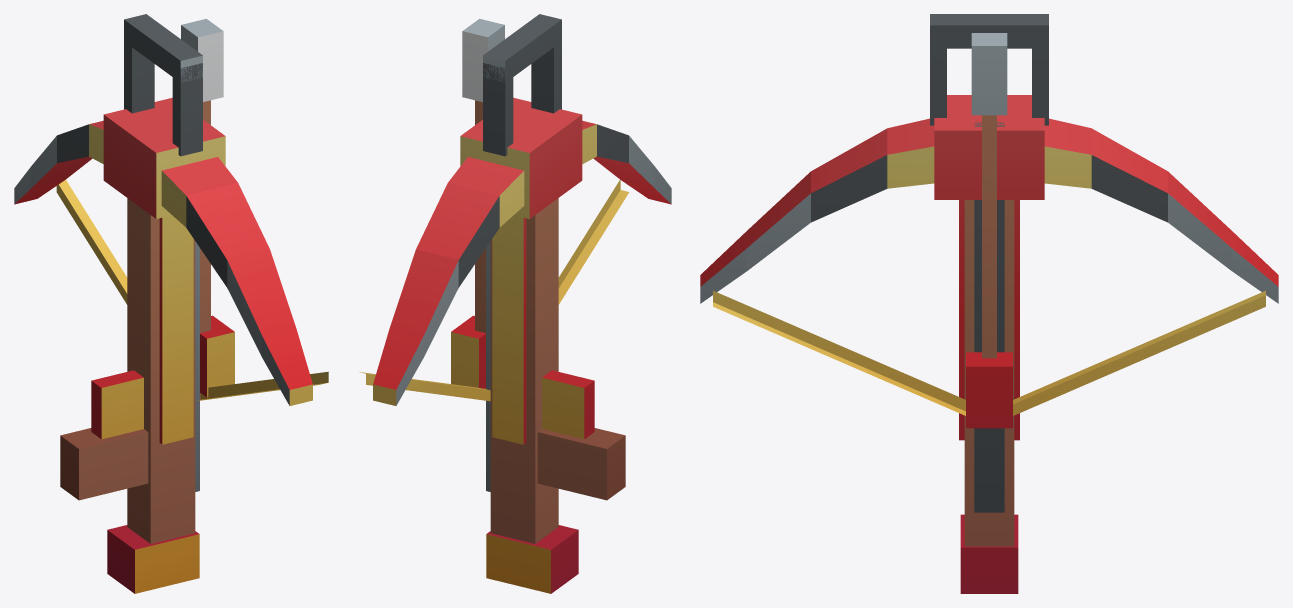
File: crossbow_gilded.glb
3 renders of one model, left to right at view 1: azimuth 30°, elevation 25°; view 2: azimuth 150°, elevation 25°; view 3: azimuth 270°, elevation 25°, orthographic. The views are drawn at different scales.
Visible parts, largest first — view 1: model; view 2: model; view 3: model.
Boxes of the visible parts, x1,y1,x2,y2 form: model: (14, 14, 328, 593); model: (359, 14, 671, 593); model: (700, 14, 1278, 593).
Size of the model in its own units: 0.44 by 1.46 by 1.36.
Materials: 1 (1 with a texture image).
